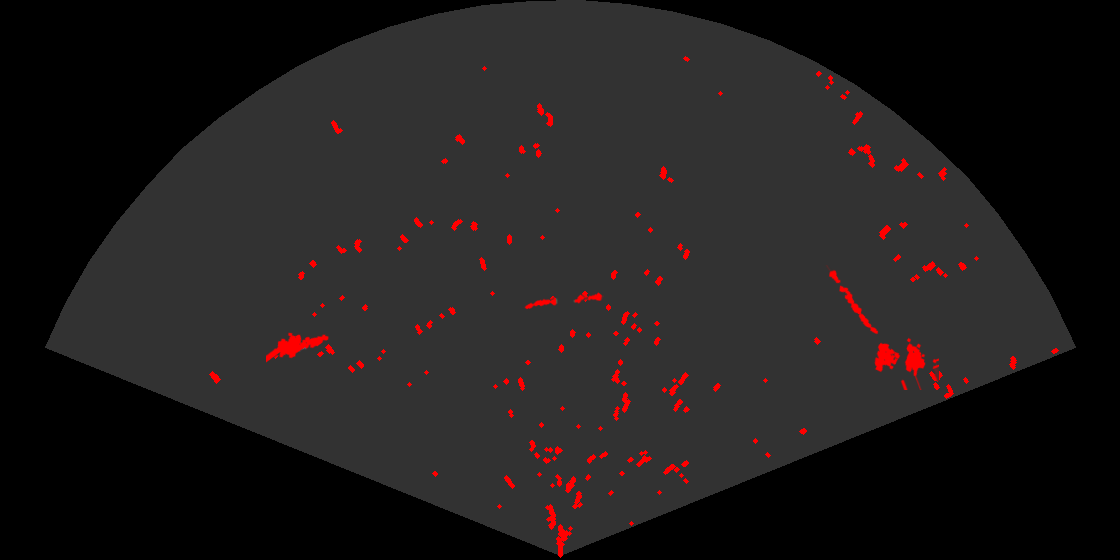cage: (873, 336, 939, 390)
chain: (824, 265, 880, 336), (522, 291, 604, 311)
frogman: (266, 331, 330, 364)
